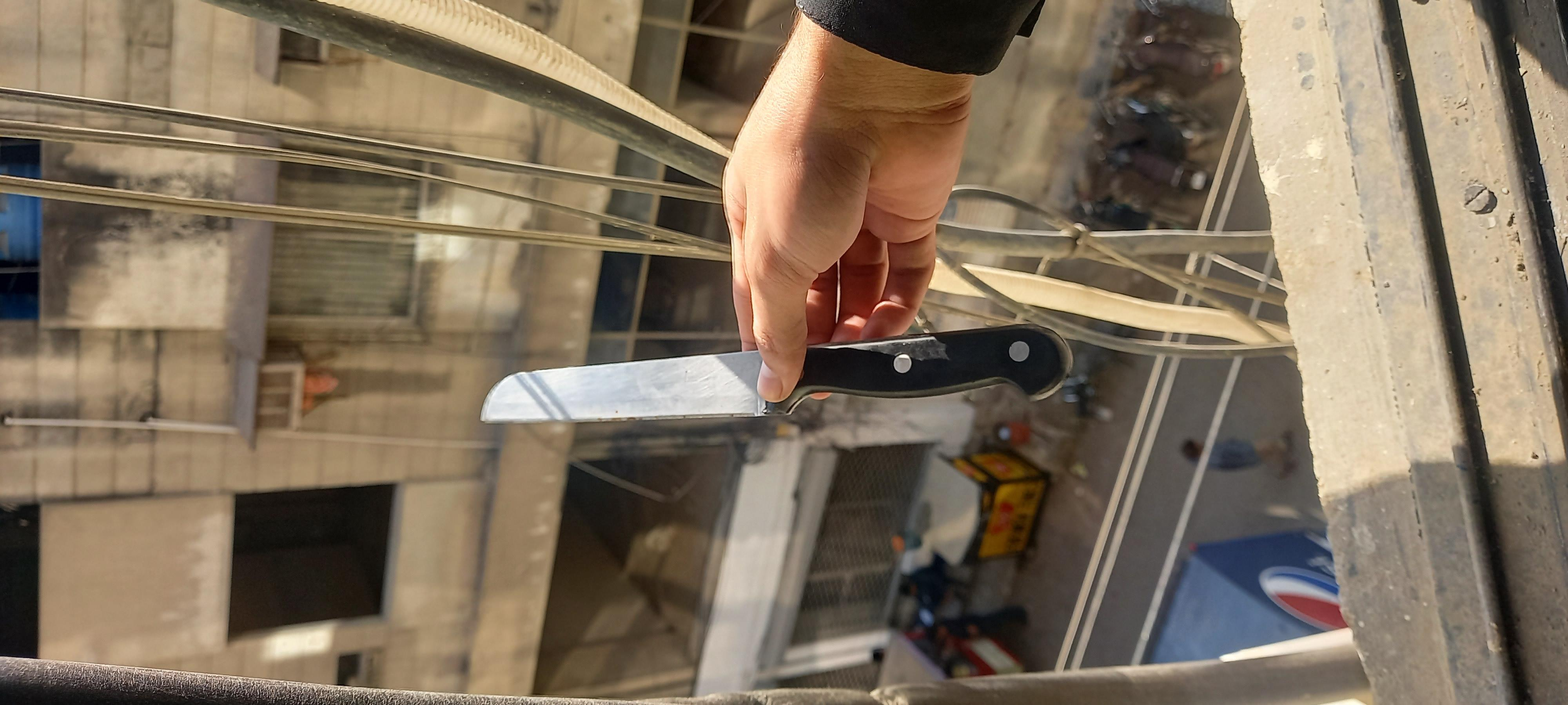knives: (560, 211, 905, 484)
